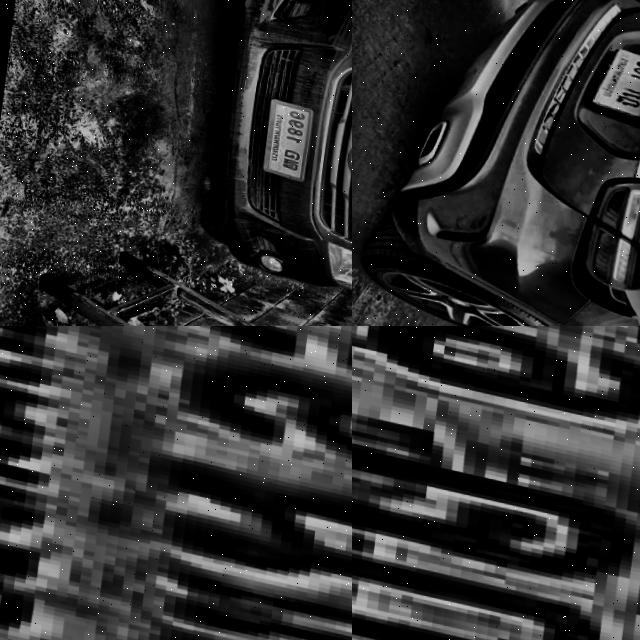license-plate: (0, 326, 352, 640), (352, 326, 640, 640), (254, 91, 314, 179), (584, 33, 640, 123)
